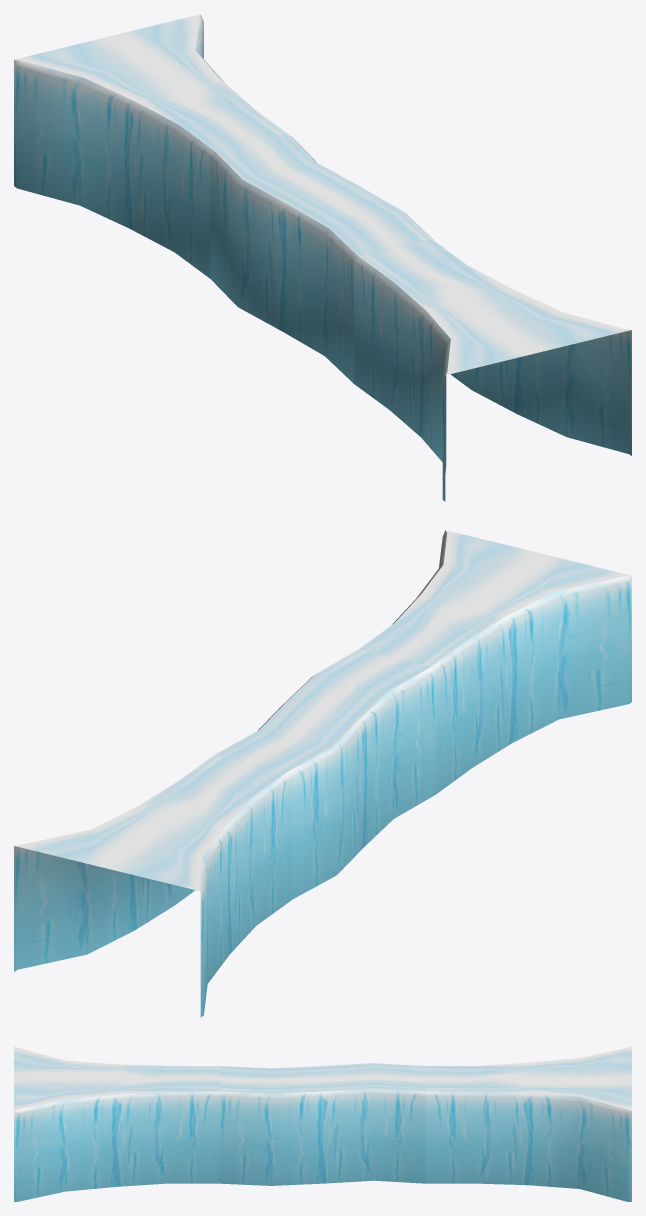
Rendered from ThinRoad.FBX.
3 views of the same model, one above another, from view 1: azimuth 30°, elevation 25°; view 2: azimuth 150°, elevation 25°; view 3: azimuth 270°, elevation 25° (orthographic). The views are drawn at different scales.
Visible parts, largest first — view 1: Bridge_Thin; view 2: Bridge_Thin; view 3: Bridge_Thin.
Boxes of the visible parts, left/top/right/bottom form: Bridge_Thin: left=14, top=14, right=631, bottom=501; Bridge_Thin: left=14, top=530, right=631, bottom=1017; Bridge_Thin: left=14, top=1046, right=631, bottom=1201.
Bounding box in the file's own units: 600 × 389 × 2402.
